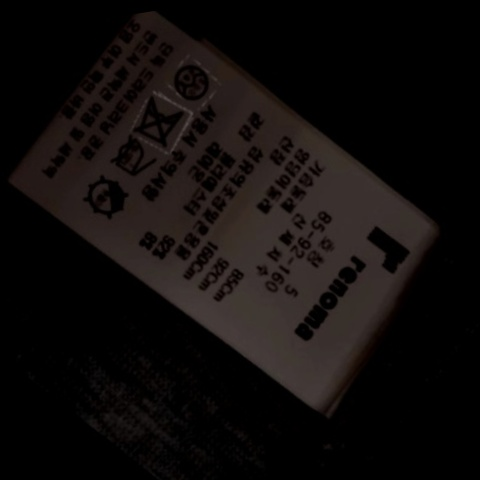DN_wash: (128, 91, 195, 152)
dry_clean_petrol_only: (167, 54, 220, 107)
iron_low: (102, 132, 162, 186)
line_dry_in_shade: (78, 169, 141, 226)
